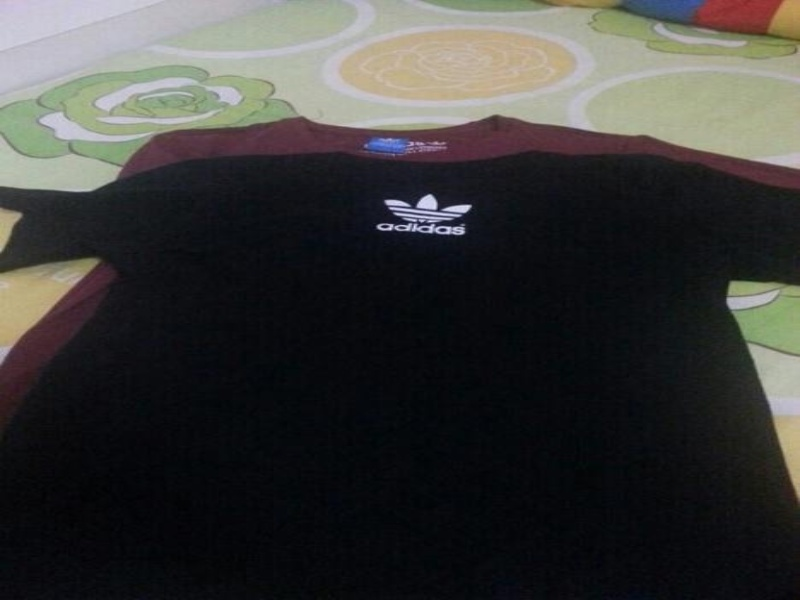short_sleeved_shirt: (3, 75, 798, 592), (0, 152, 797, 599)
